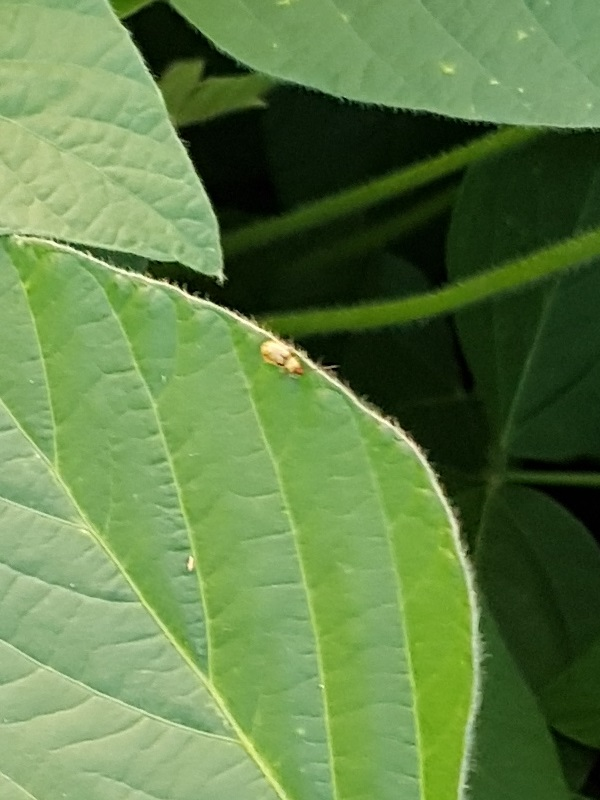Diabrotica_speciosa: (245, 328, 331, 396)
